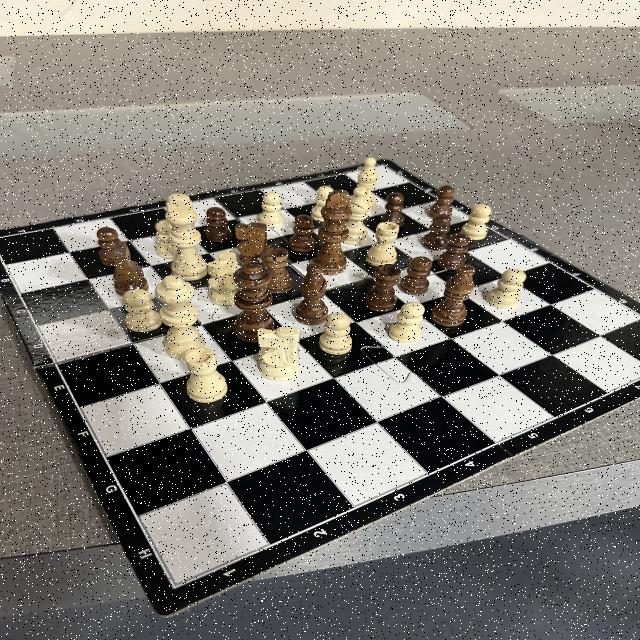Black-Bishop: (430, 265, 476, 327), (294, 264, 328, 326)
Black-King: (312, 190, 352, 276)
Black-Knight: (112, 241, 148, 297), (235, 222, 267, 262)
Black-Pawn: (400, 256, 432, 296), (438, 233, 470, 270), (422, 214, 452, 250), (288, 215, 316, 252), (205, 206, 232, 242), (428, 184, 456, 218), (96, 227, 118, 267), (380, 192, 405, 226)
Black-Queen: (233, 260, 273, 342)
Black-Rook: (364, 264, 402, 312), (262, 246, 294, 294)
White-Bishop: (344, 188, 368, 245), (357, 158, 378, 188)
White-King: (165, 194, 208, 282)
White-Knight: (258, 327, 300, 381), (208, 251, 238, 306)
White-Pawn: (123, 288, 162, 332), (486, 269, 526, 309), (388, 302, 426, 342), (318, 312, 352, 355), (461, 204, 492, 240), (258, 192, 284, 228), (156, 220, 178, 259), (310, 185, 333, 222)
White-Queen: (155, 275, 205, 360)
White-Rook: (184, 347, 228, 403), (366, 222, 400, 268)
